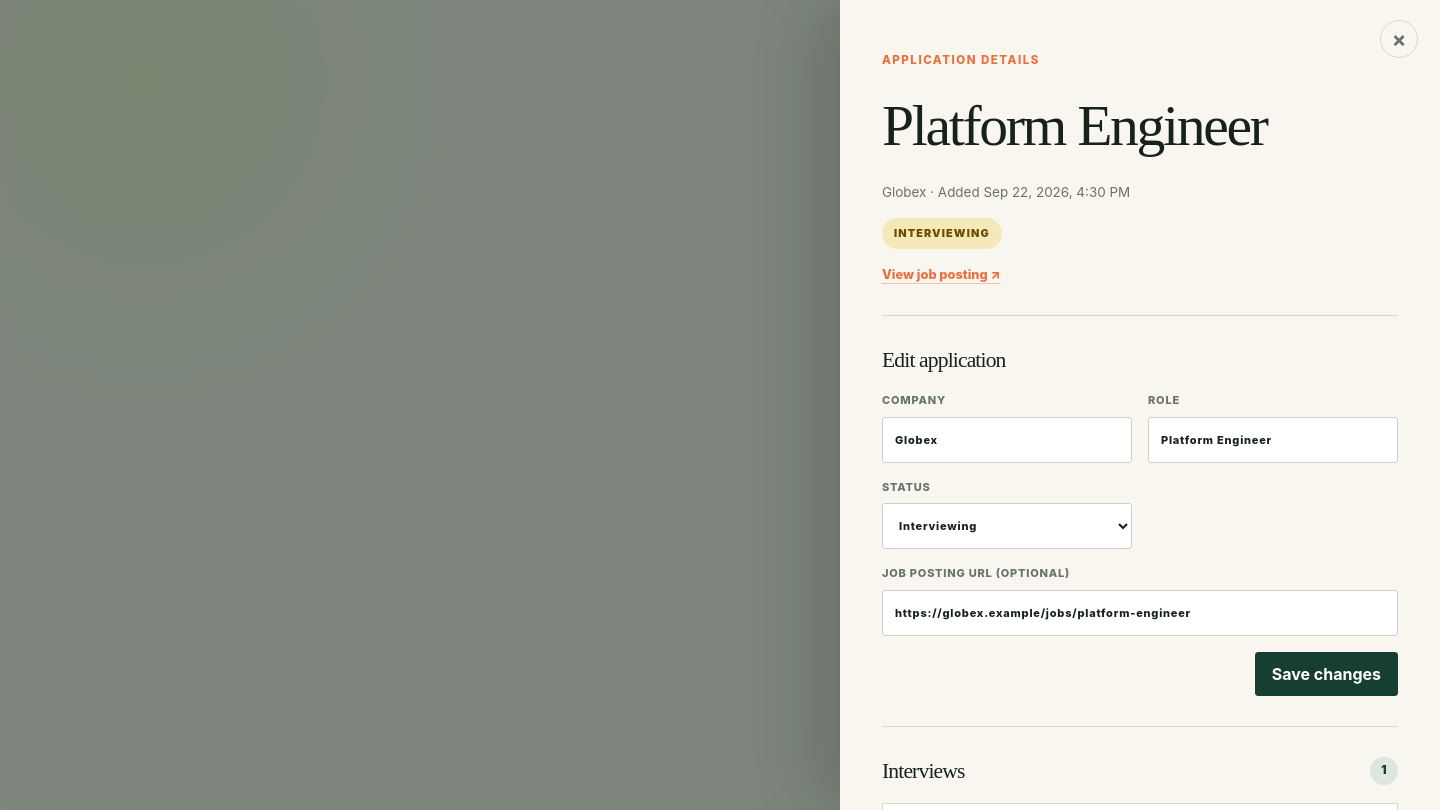
Test: ApplicationDetailPanel › loads details, updates the application, and handles delete confirmation
This screenshot has width=1440, height=810.
Expected: the heading "Platform Engineer" is shown, [882,94,1267,157]
Expected: the text "Interviewing" is shown, [882,218,1002,249]
Replace the text in the field labelled "Role" with "Senior Platform Engineer": [1273, 440] box [1148,417,1398,463]
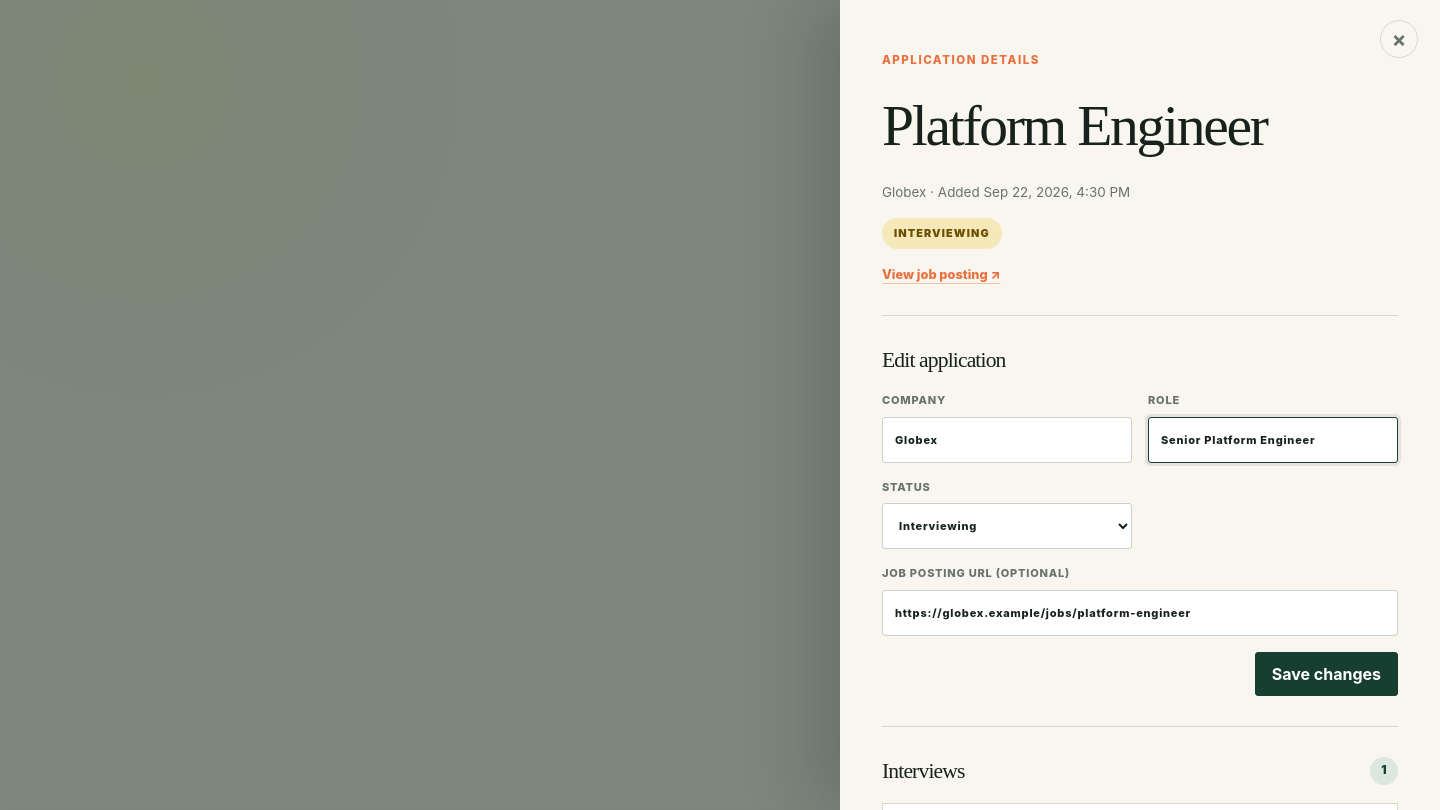
Click the button "Save changes": [1326, 674] box [1255,652,1398,696]
(page scrolled)
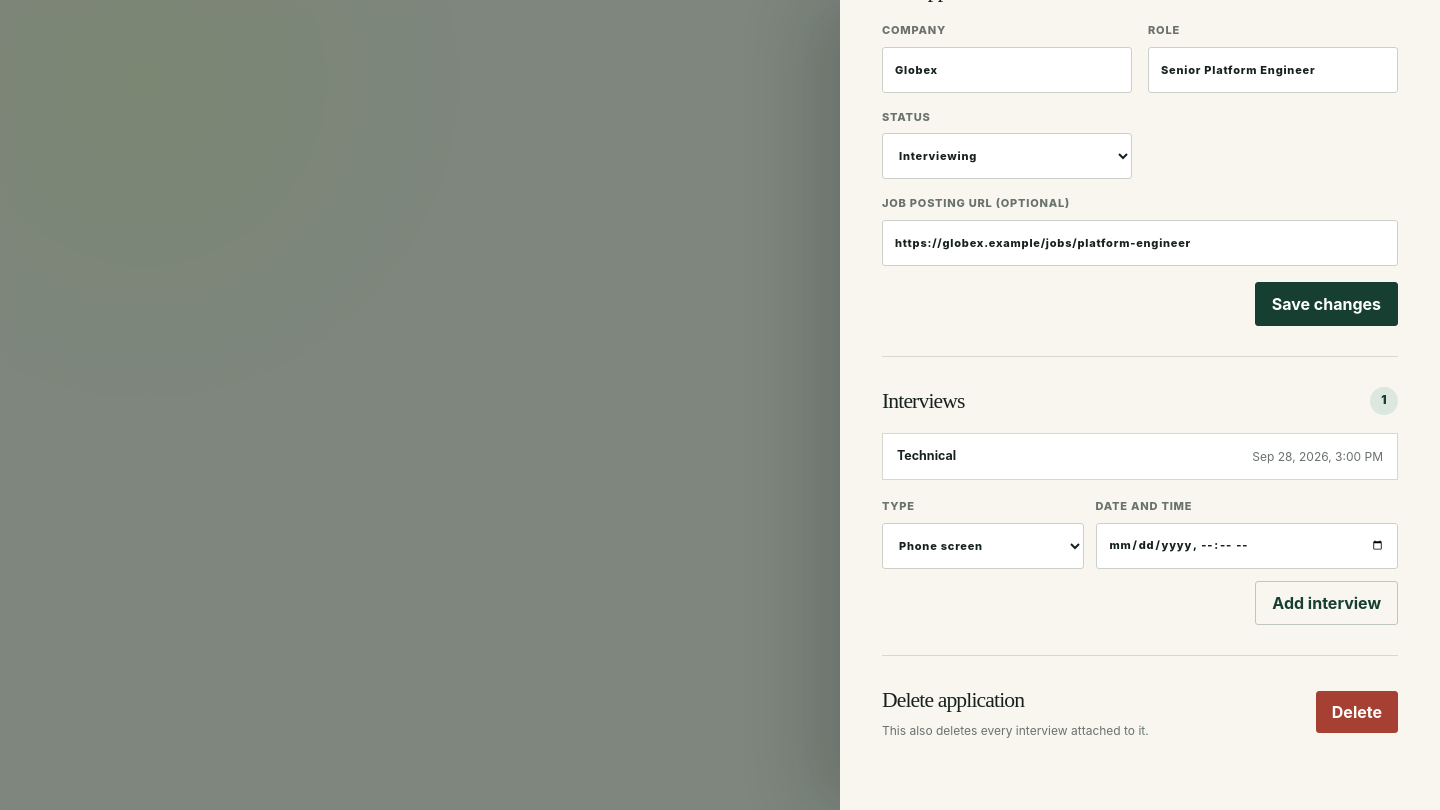
Click the button "Delete": [1357, 712] box [1316,691,1398,733]
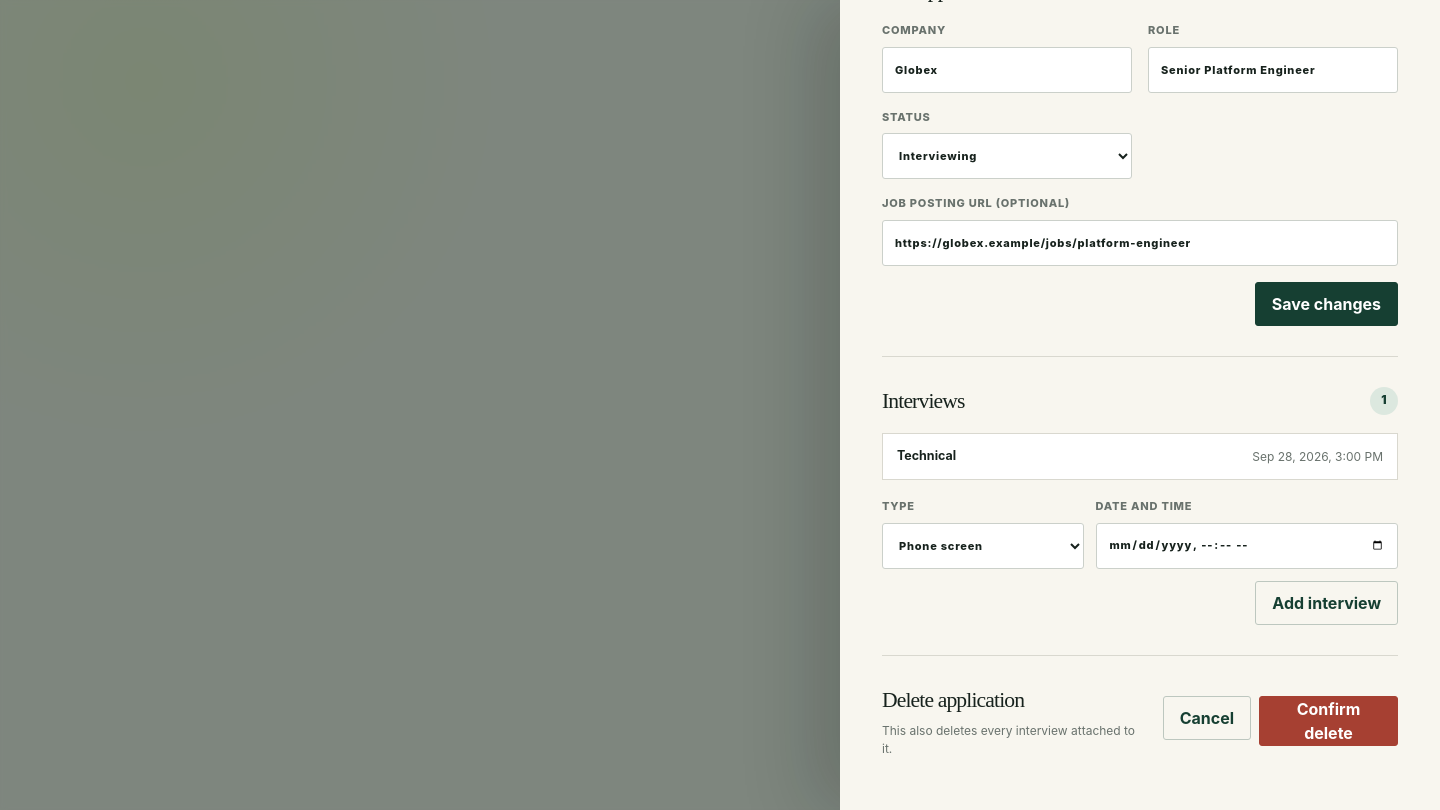
Result: the button "Confirm delete" is shown at [1259,696,1398,746]
Click the button "Cancel": [1207, 718] box [1163,696,1251,740]
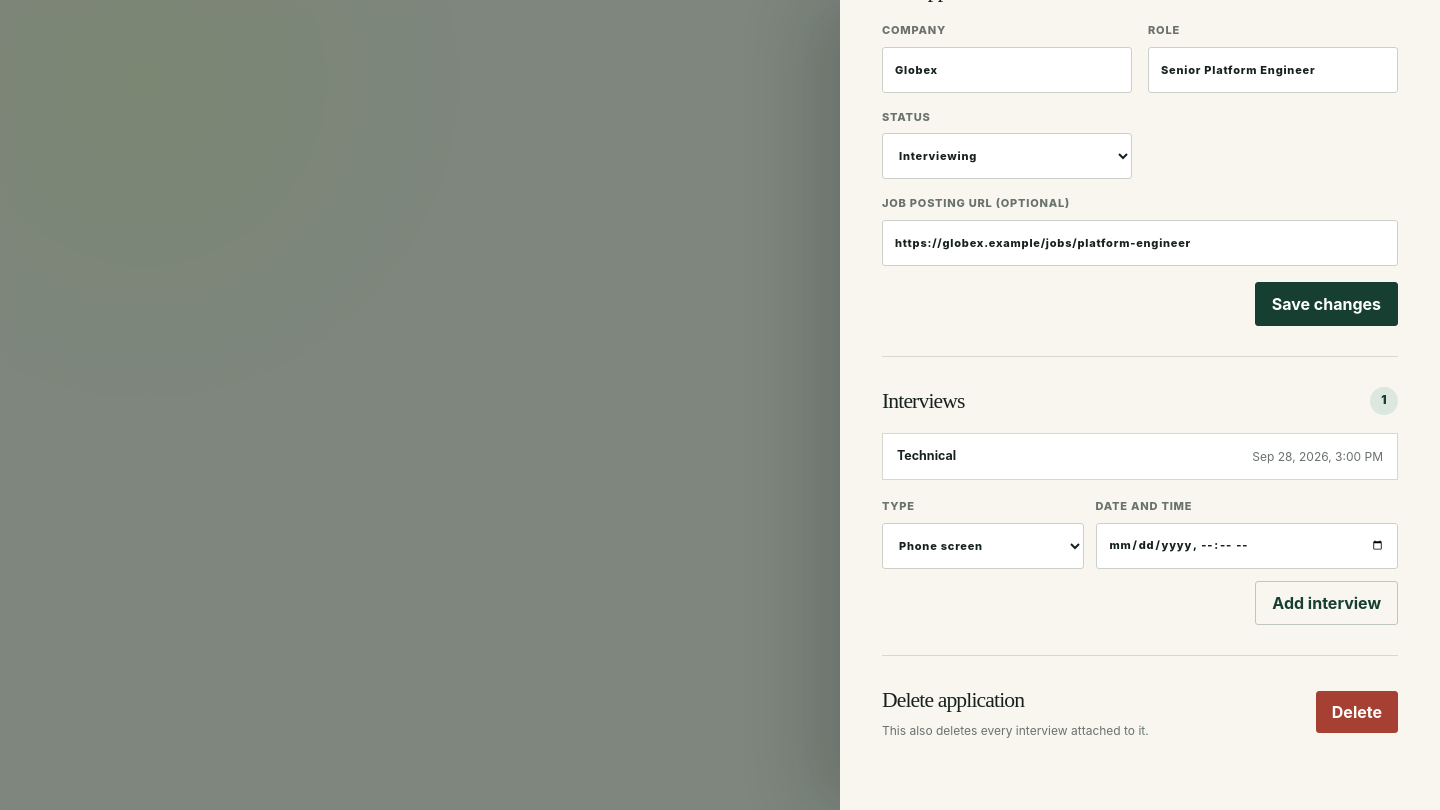
Result: the button "Confirm delete" is gone
